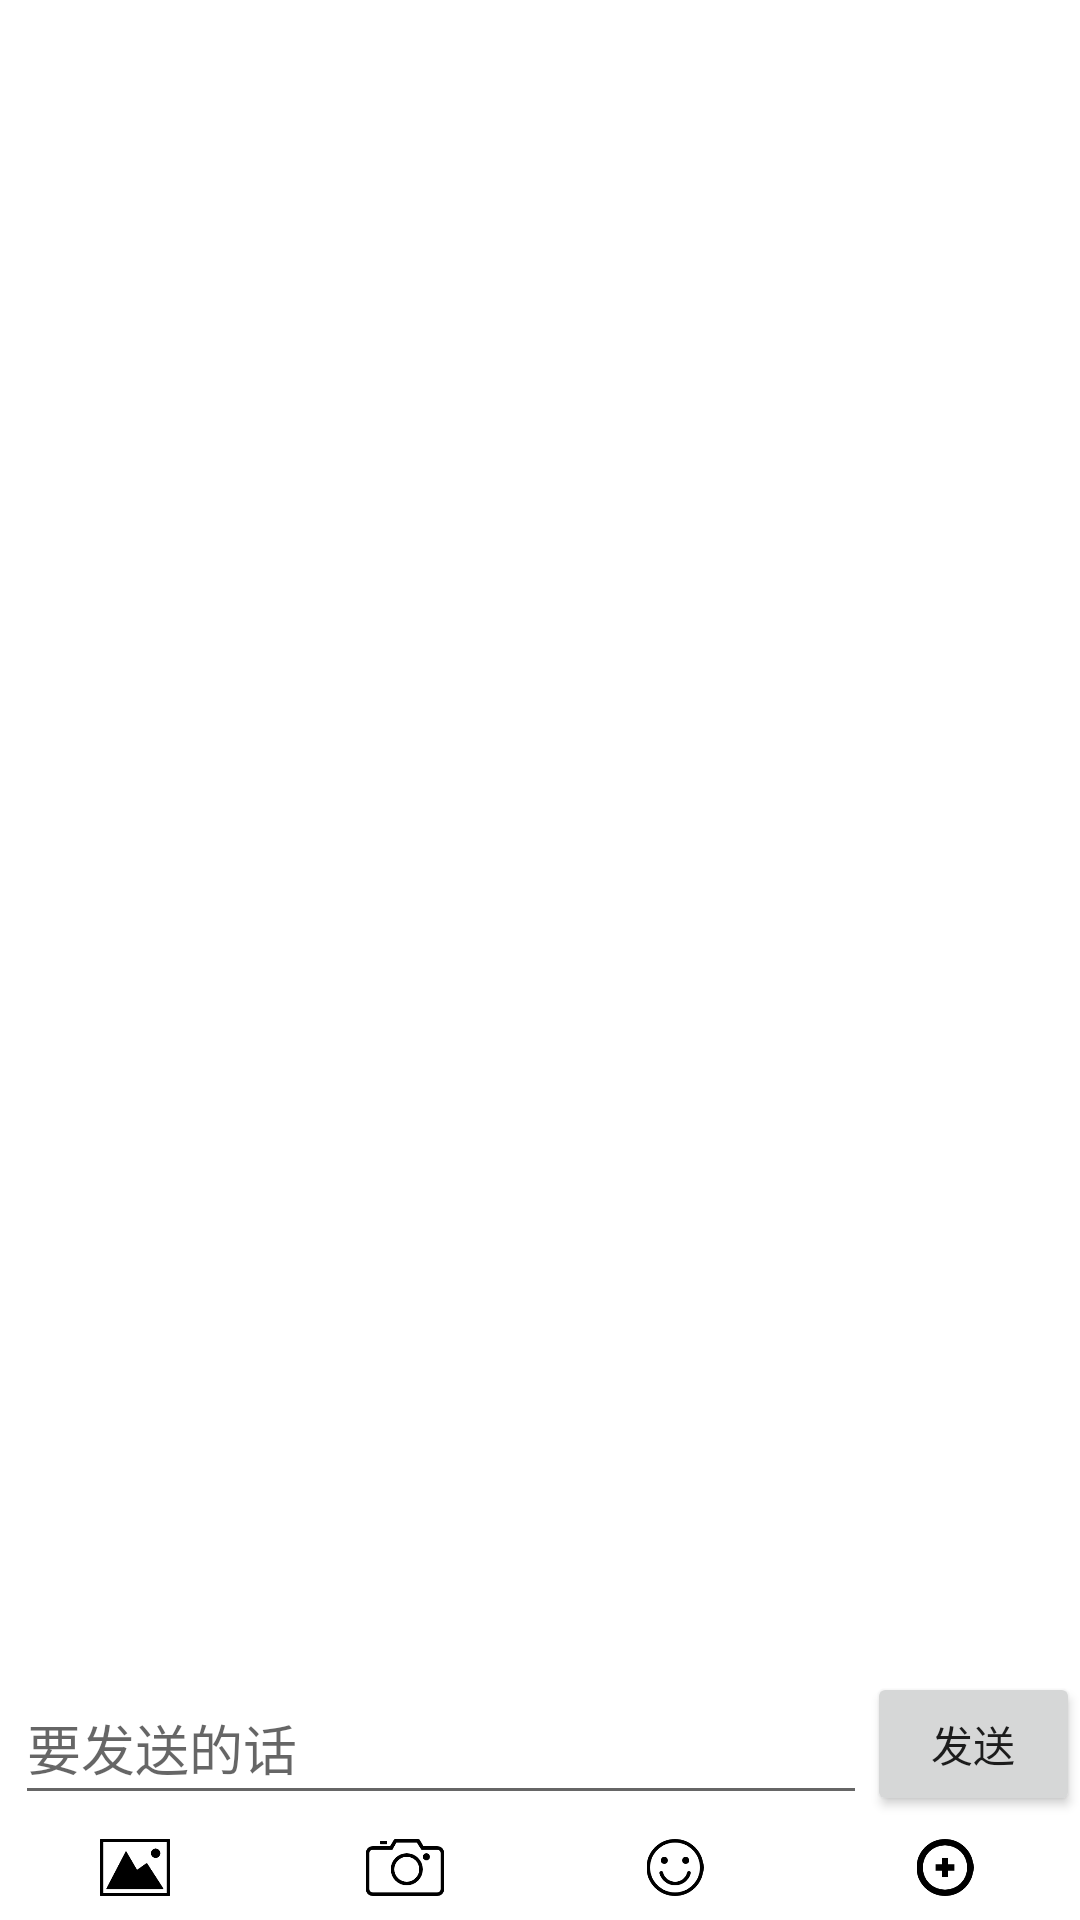

Locate icon controls on the screen. Image size 1080px x 1920px, boxes as {"left": x1, "top": y1, "right": x2, "bottom": y2}.
add: {"left": 917, "top": 1839, "right": 974, "bottom": 1896}
camera: {"left": 366, "top": 1839, "right": 444, "bottom": 1896}
expression: {"left": 647, "top": 1839, "right": 704, "bottom": 1896}
photo: {"left": 100, "top": 1839, "right": 170, "bottom": 1896}
